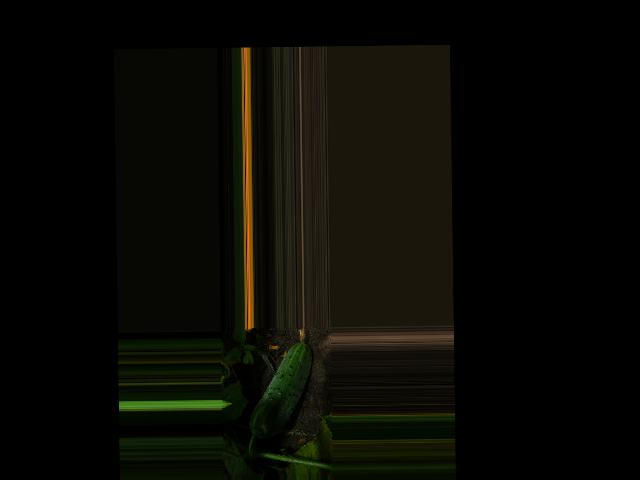cucumber: (248, 327, 314, 438)
